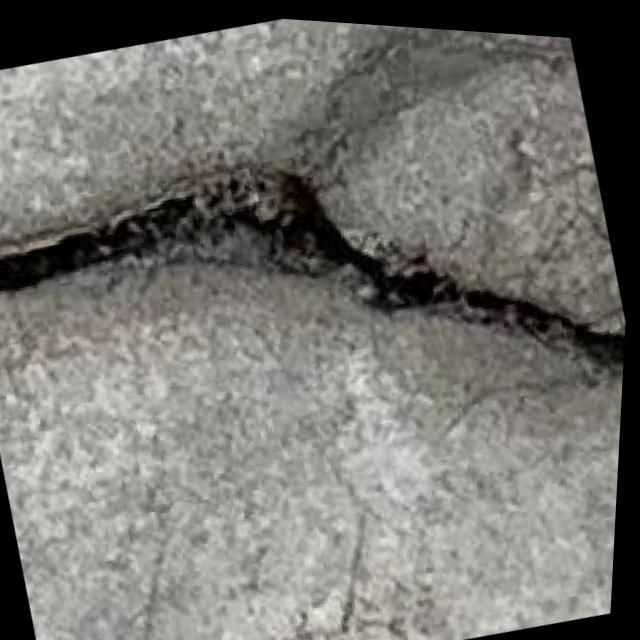Crack: (0, 43, 638, 547)
